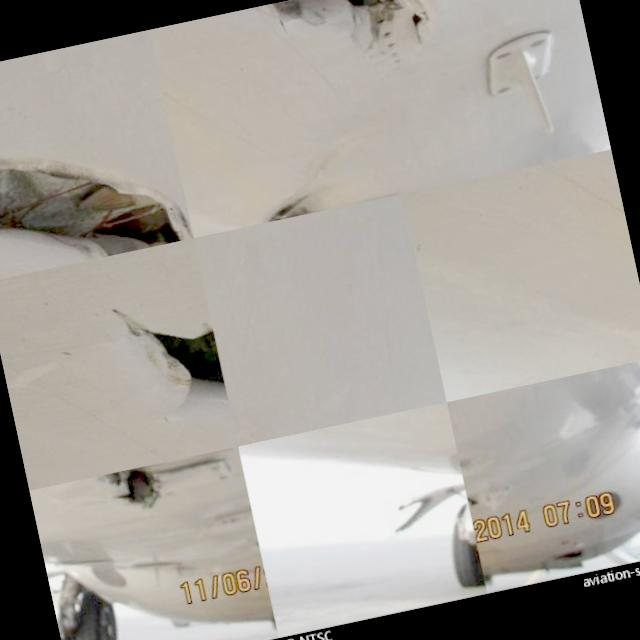crack: (106, 284, 230, 426)
